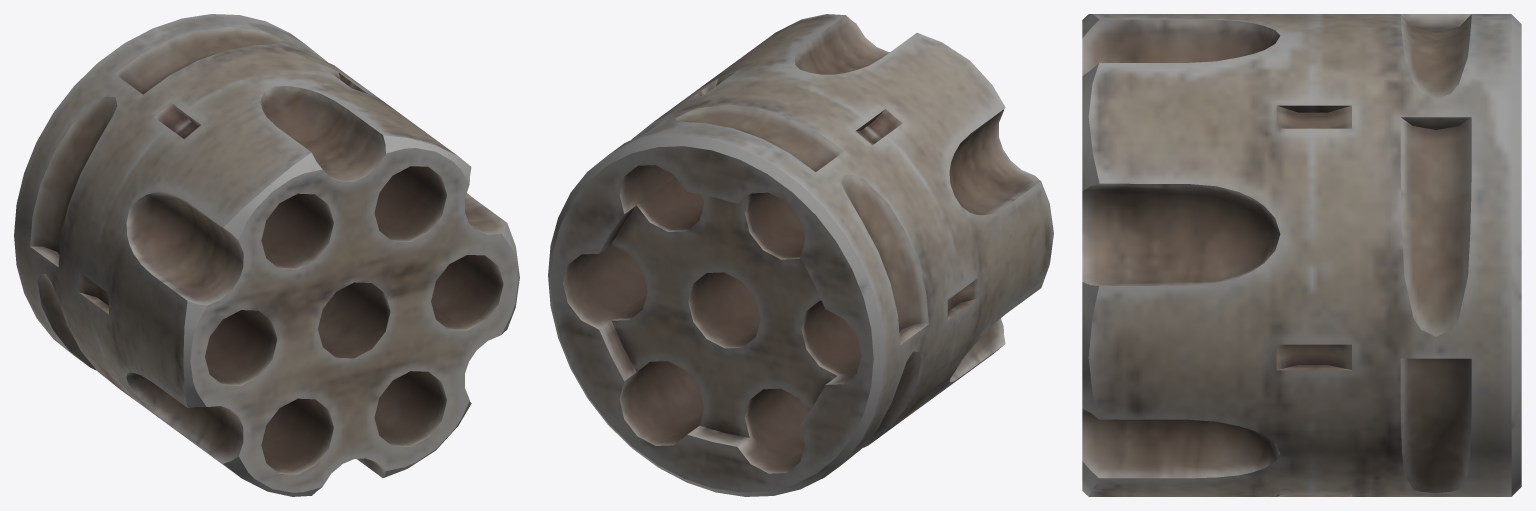
Rendered from SM_RageBull_01d.fbx.
3 views of the same model, side by side, from view 1: azimuth 30°, elevation 25°; view 2: azimuth 150°, elevation 25°; view 3: azimuth 270°, elevation 25° (orthographic). The views are drawn at different scales.
Parts seen in each view (by area): view 1: SM_RageBull_01d_LOD0; view 2: SM_RageBull_01d_LOD0; view 3: SM_RageBull_01d_LOD0.
Part boxes in pixels (left/top/right/bottom): SM_RageBull_01d_LOD0: left=14, top=14, right=519, bottom=496; SM_RageBull_01d_LOD0: left=548, top=14, right=1053, bottom=496; SM_RageBull_01d_LOD0: left=1082, top=14, right=1521, bottom=496.
Bounding box in the file's own units: 4.89 × 4.43 × 4.89.
